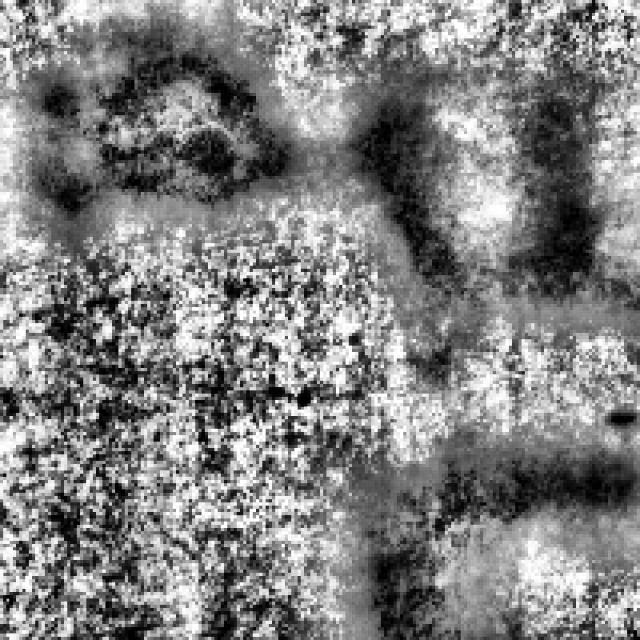Scratches: (26, 19, 294, 211), (362, 442, 630, 634), (336, 80, 489, 323), (496, 84, 637, 326)
